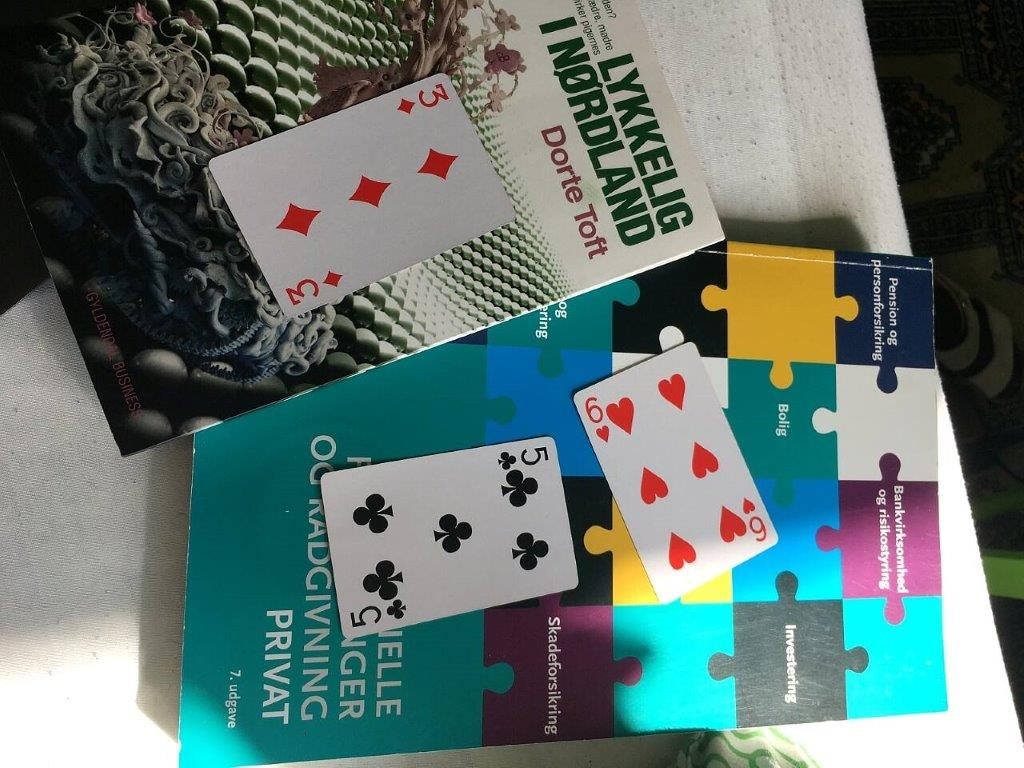3D: (206, 71, 517, 319)
5C: (320, 436, 580, 642)
6H: (571, 340, 779, 606)
